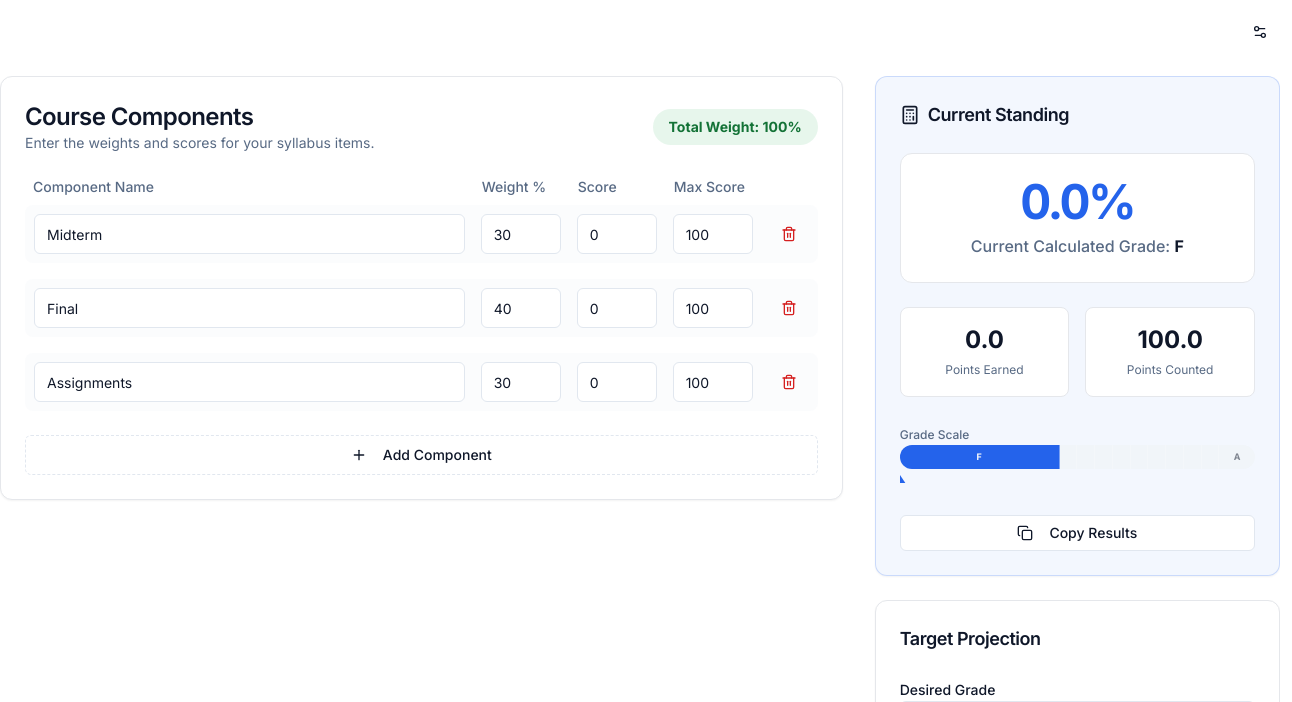
Test: GradeCalculator Component › calculates weighted percentage when scores are entered
Replace the text in the number field named "Score for" with "80" at (617, 234), box [577, 214, 657, 254]
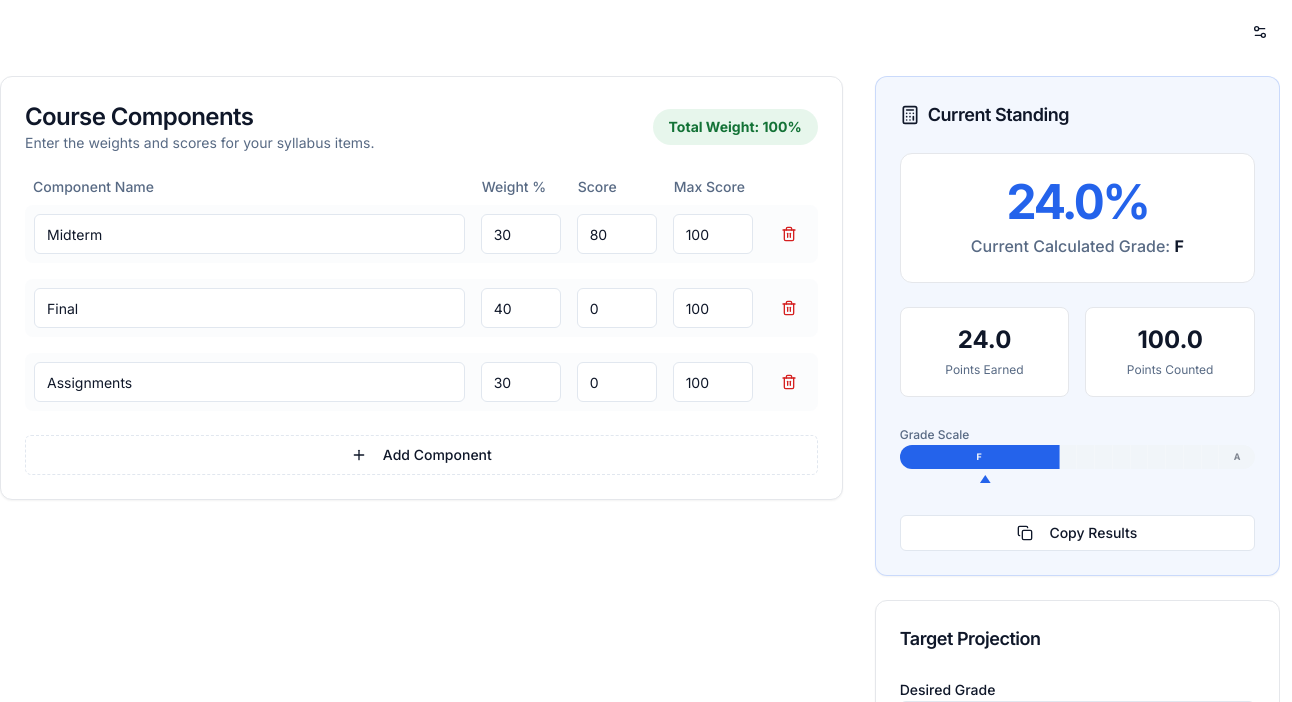
Check: the text "24.0%" is shown, box [1006, 178, 1149, 226]
Check: the text "24.0" is shown, box [958, 325, 1011, 354]
